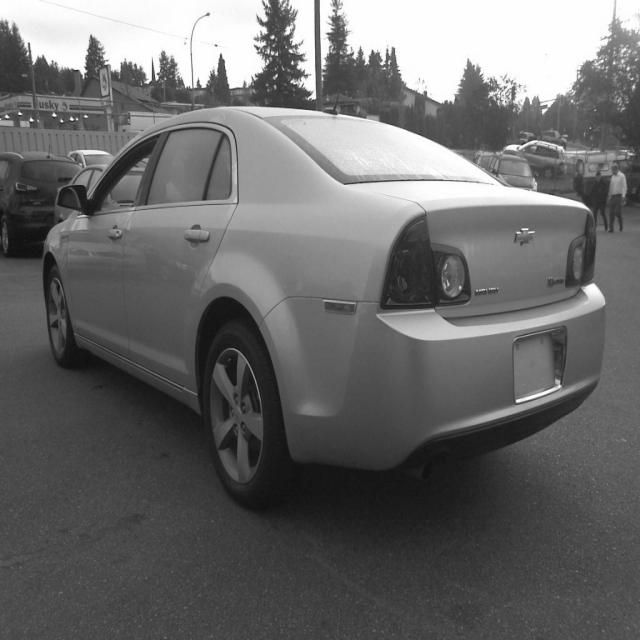car: (41, 104, 606, 507), (0, 150, 82, 256)
